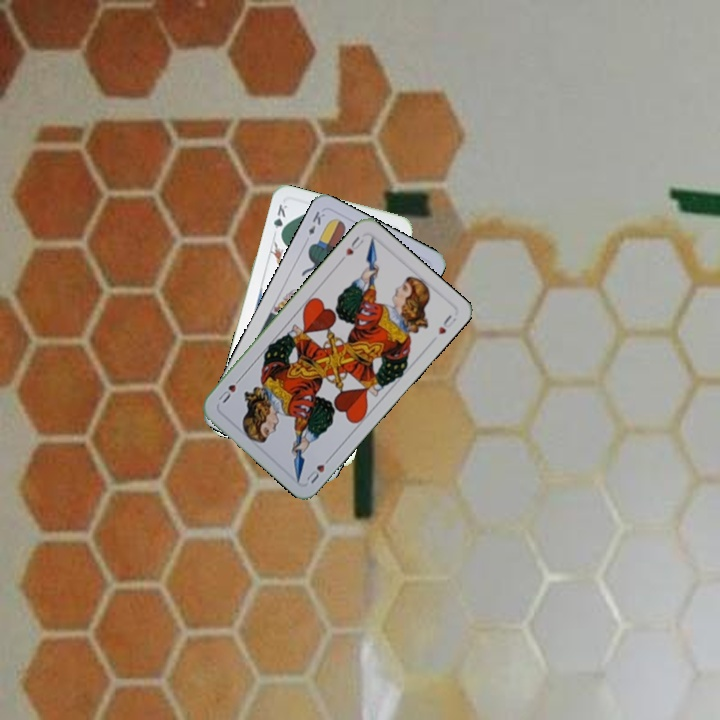EK: (304, 207, 328, 238)
GK: (269, 199, 290, 240)
HU: (301, 452, 334, 486), (341, 232, 366, 258)
